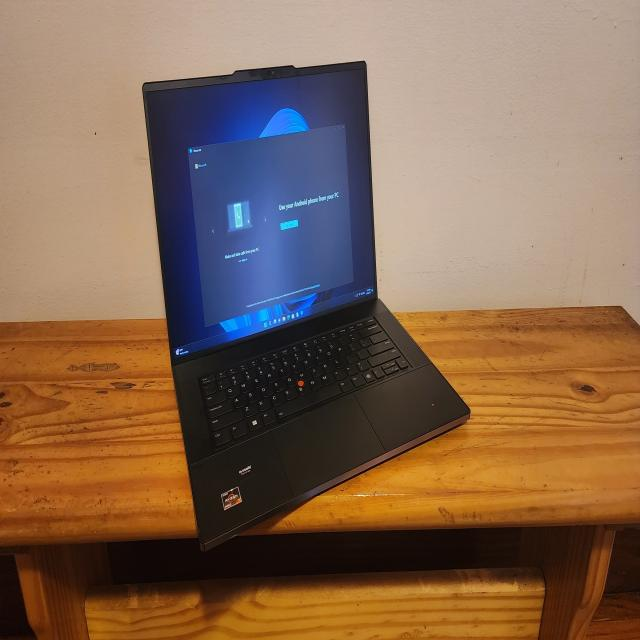keyboard: (174, 295, 469, 553)
